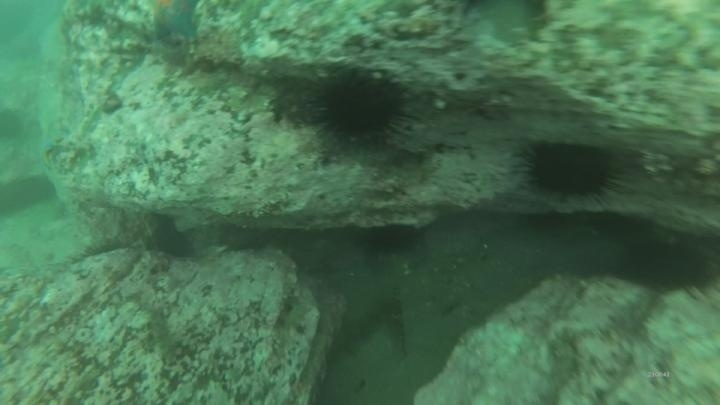echinus: (308, 68, 414, 151), (517, 137, 625, 205), (617, 233, 717, 298), (360, 221, 423, 260)
starfish: (144, 0, 204, 44)
